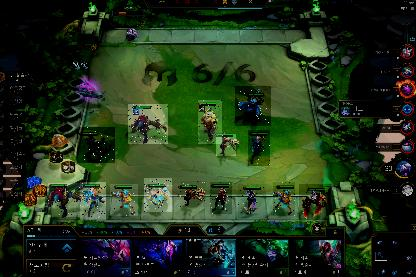1_diana: (210, 182, 232, 214)
1_leesin: (80, 182, 106, 220), (248, 130, 270, 166)
1_nunu: (235, 86, 271, 126)
1_olaf: (299, 184, 331, 220)
1_rakan: (180, 181, 206, 207), (216, 134, 236, 156)
1_rengar: (128, 104, 168, 144), (48, 183, 80, 217)
1_seraphine: (144, 178, 172, 212)
1_sylas: (77, 127, 115, 163)
1_varus: (238, 184, 266, 218)
1_volibear: (198, 100, 222, 144)
1_zeri: (110, 184, 138, 216), (273, 182, 295, 216)
